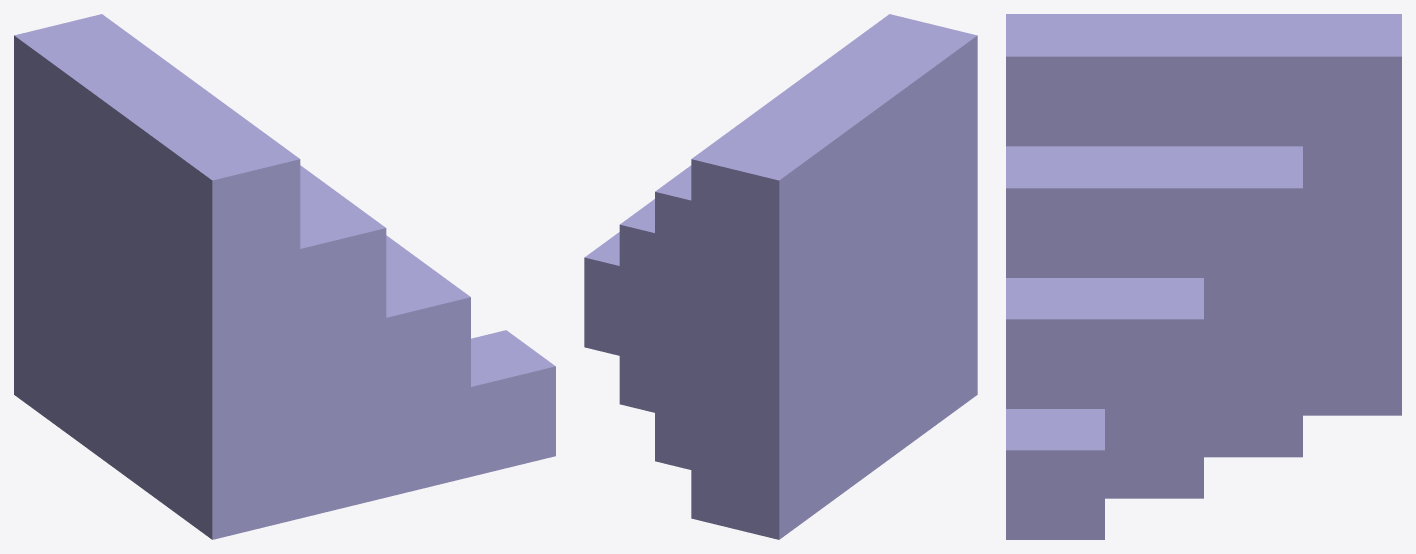
3 renders of one model, left to right at view 1: azimuth 30°, elevation 25°; view 2: azimuth 150°, elevation 25°; view 3: azimuth 270°, elevation 25°, orthographic.
Parts seen in each view (by area): view 1: Cube; view 2: Cube; view 3: Cube.
Boxes of the visible parts, box(x1,y1,x2,y2) form: Cube: box(14, 14, 555, 539); Cube: box(584, 14, 977, 539); Cube: box(1006, 14, 1401, 539).
Size of the model in its own units: 0.104 by 0.104 by 0.104.
